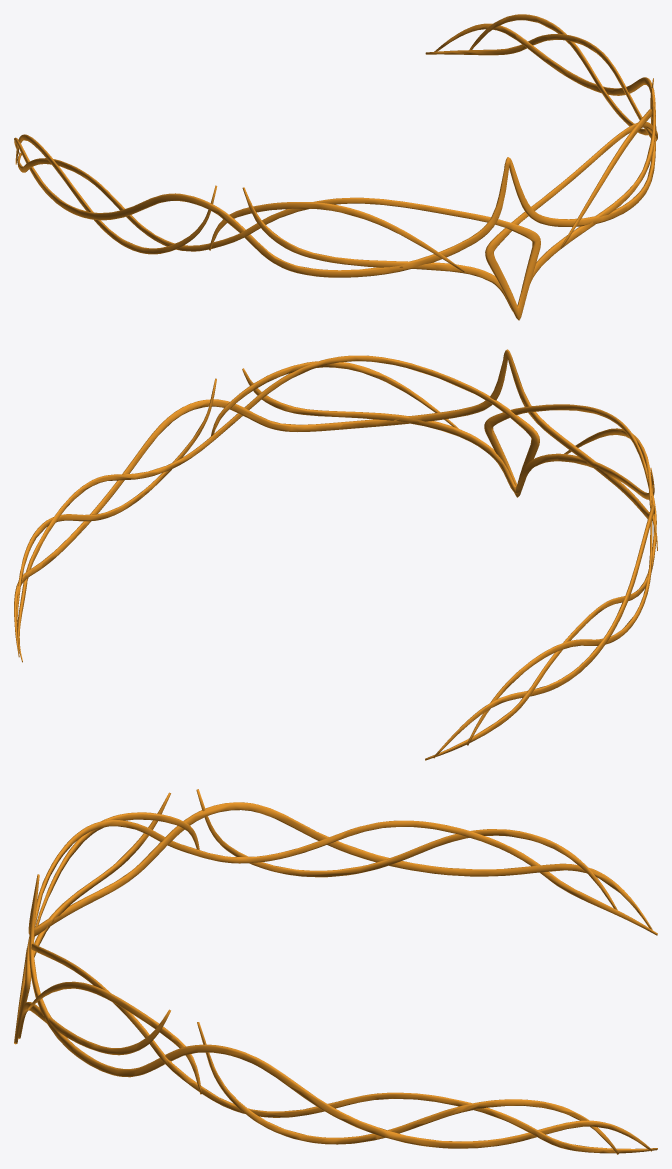
The model's file is crown.glb.
3 renders of one model, top to bottom at view 1: azimuth 30°, elevation 25°; view 2: azimuth 150°, elevation 25°; view 3: azimuth 270°, elevation 25°, orthographic. The views are drawn at different scales.
Parts seen in each view (by area): view 1: diadema.; view 2: diadema.; view 3: diadema..
Boxes of the visible parts, x1=… form: diadema.: x1=14, y1=14, x2=657, y2=320; diadema.: x1=14, y1=349, x2=657, y2=760; diadema.: x1=14, y1=789, x2=657, y2=1154.
Bounding box in the file's own units: 0.1587 × 0.0457 × 0.157.
